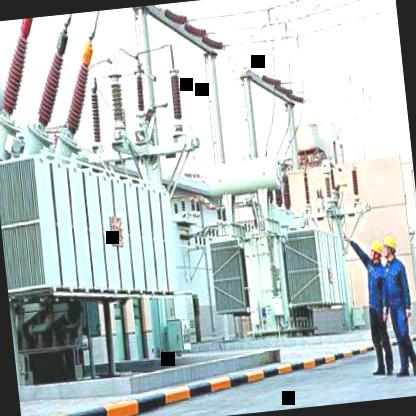helmet: (366, 236, 384, 268), (379, 233, 398, 262)
